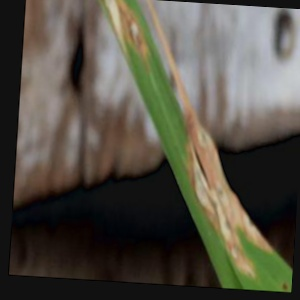Brown_Spot: (83, 0, 135, 35), (121, 16, 145, 47)
